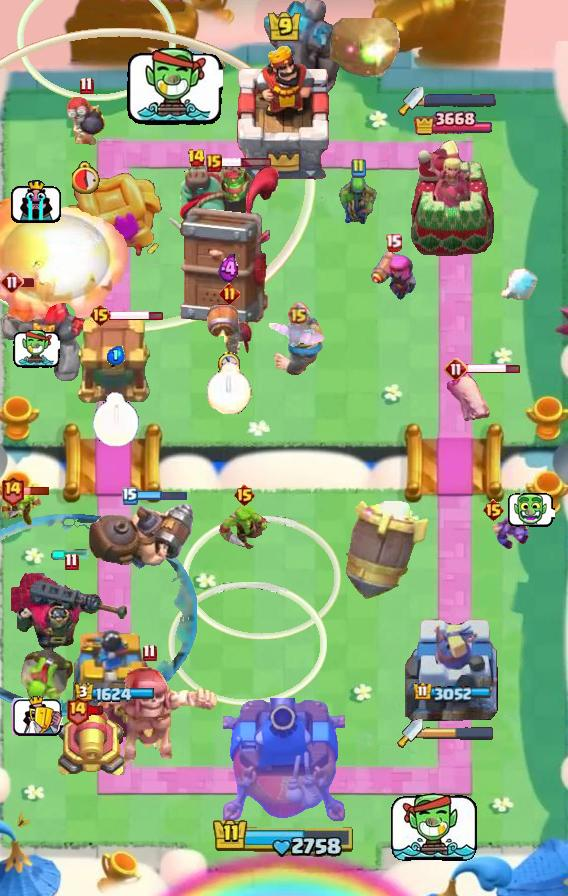bar: (405, 611, 501, 731), (409, 138, 497, 256)
bar-level: (18, 647, 76, 719)
barbarian: (267, 320, 327, 350)
bat: (500, 266, 538, 300)
bomb: (77, 317, 155, 405)
cannoneer-tower: (0, 284, 94, 384), (261, 0, 345, 98)
clock: (212, 817, 356, 859)
dart-goblin: (179, 165, 279, 327)
electro-giant: (78, 665, 220, 779)
electro-spirit: (218, 254, 240, 284), (107, 346, 125, 365)
elixir: (92, 392, 140, 448), (208, 362, 253, 414), (71, 162, 100, 195), (218, 351, 240, 375)
emote: (109, 310, 164, 323), (466, 361, 521, 374), (136, 489, 188, 502), (220, 157, 272, 168), (14, 486, 50, 496), (16, 276, 36, 287), (87, 705, 105, 716)
firecracker: (272, 315, 324, 375)
giant: (443, 371, 495, 425)
giant-snowball: (338, 170, 378, 228)
ice-golem: (65, 94, 107, 146)
ice-spirit: (51, 549, 91, 561)
inferno-tower: (11, 573, 131, 657)
king-tower: (223, 698, 345, 826), (230, 43, 338, 181)
king-tower-bar: (424, 93, 496, 107), (423, 726, 495, 740)
knight: (204, 302, 254, 370)
lava-hound: (162, 162, 256, 256)
pad_0: (0, 513, 196, 717)
queen-tower: (64, 621, 164, 731)
royal-delivery: (487, 512, 531, 550)
royal-recruit: (56, 707, 128, 781)
selected: (414, 109, 492, 140), (73, 681, 154, 702), (414, 682, 492, 702)
skeleton: (125, 48, 223, 126), (390, 792, 480, 864), (10, 176, 62, 223), (9, 695, 62, 736), (12, 330, 59, 368), (507, 492, 555, 528)
text: (66, 695, 91, 726), (0, 475, 24, 505), (0, 270, 24, 294), (444, 357, 468, 381), (88, 303, 111, 327), (232, 483, 255, 507), (482, 498, 505, 522), (287, 302, 310, 325), (220, 283, 241, 305), (186, 148, 205, 168), (385, 232, 403, 251), (350, 158, 366, 178), (206, 154, 222, 172), (122, 487, 138, 505), (143, 643, 158, 662), (78, 77, 93, 95), (65, 553, 80, 571)
tombstone: (368, 247, 418, 301)
valkyrie: (0, 194, 134, 326)
wizard: (85, 501, 197, 571)
x-bow: (343, 500, 428, 599), (325, 18, 411, 80)
zap: (219, 506, 269, 550), (0, 489, 42, 529)
